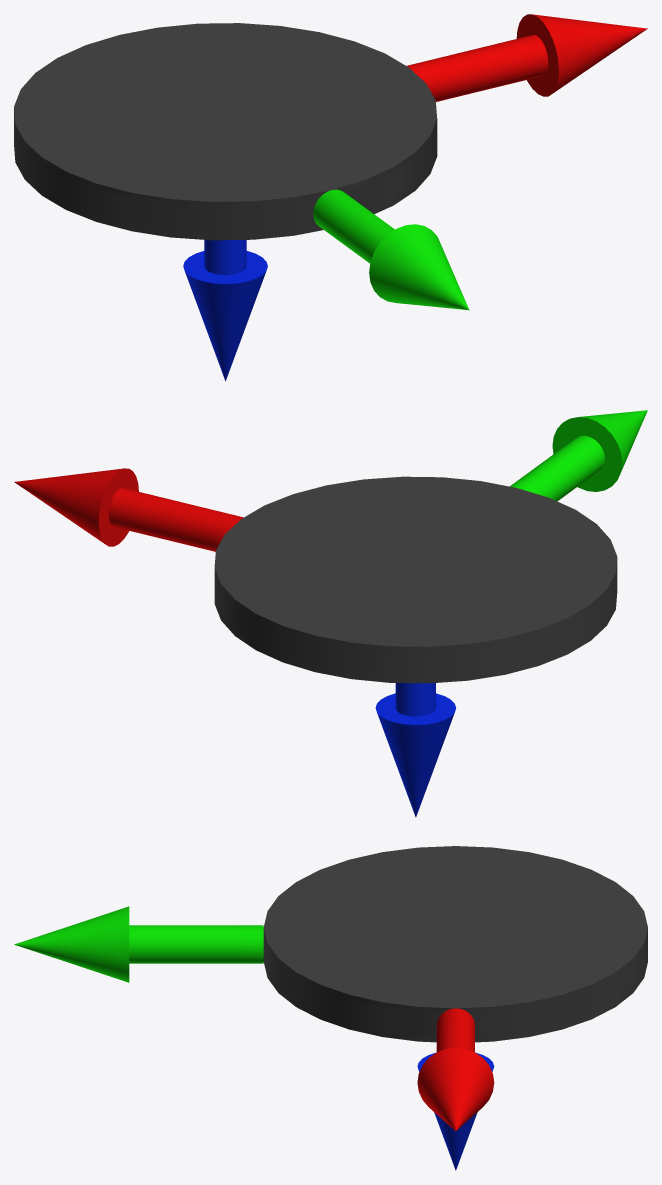
File: UEModel1.fbx
3 views of the same model, one above another, from view 1: azimuth 30°, elevation 25°; view 2: azimuth 150°, elevation 25°; view 3: azimuth 270°, elevation 25° (orthographic). The views are drawn at different scales.
Visible parts, largest first — view 1: Cylinder, Cone3, Cylinder3, Cone, Cone2, Cylinder4, Cylinder2; view 2: Cylinder, Cylinder3, Cone, Cone2, Cone3, Cylinder4, Cylinder2; view 3: Cylinder, Cylinder4, Cone3, Cone2, Cylinder3, Cone.
Boxes of the visible parts, x1,y1,x2,y2 form: Cylinder: (14,23,437,240); Cone3: (369,224,469,310); Cylinder3: (407,35,548,101); Cone: (183,251,267,381); Cone2: (516,14,647,96); Cylinder4: (313,189,394,263); Cylinder2: (204,240,246,275); Cylinder: (214,476,617,683); Cylinder3: (108,488,243,551); Cone: (375,693,455,817); Cone2: (14,468,138,546); Cone3: (552,410,647,491); Cylinder4: (510,435,604,501); Cylinder2: (395,683,435,716); Cylinder: (263,846,647,1042); Cylinder4: (129,925,263,963); Cone3: (14,906,129,982); Cone2: (417,1048,494,1130); Cylinder3: (436,1008,474,1052); Cone: (417,1052,494,1170).
Size of what is drawn, in the model's own units: 82.5 by 82.5 by 37.5.
